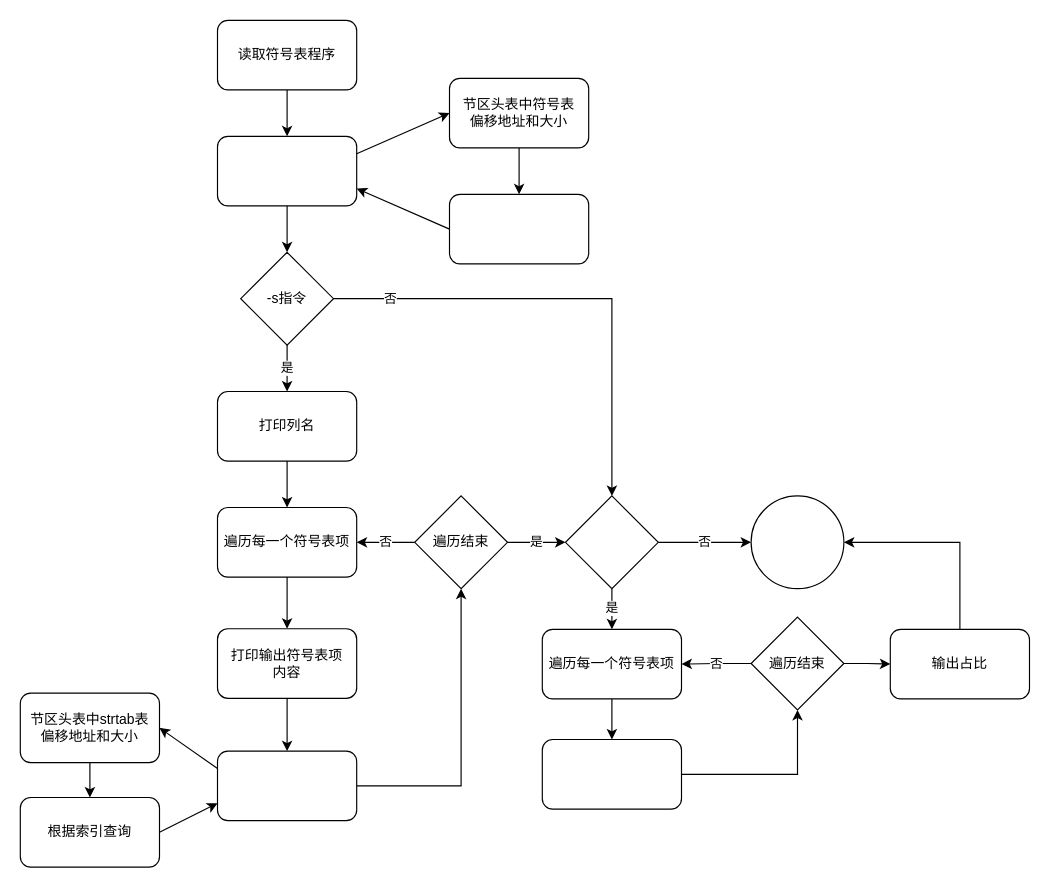
The diagram is 1050 pixels wide and 887 high, and some of its shapes have lost their labels. The centre of each missing label's shape, as x and y in pixels:
"-I指令" belongs at [611,542].
"将符号表从文件中 加载到内存" belongs at [518,228].
"查询符号名" belongs at [286,785].
"结束" belongs at [797,542].
"统计符号大小占比" belongs at [611,773].
"读取符号表" belongs at [286,170].
